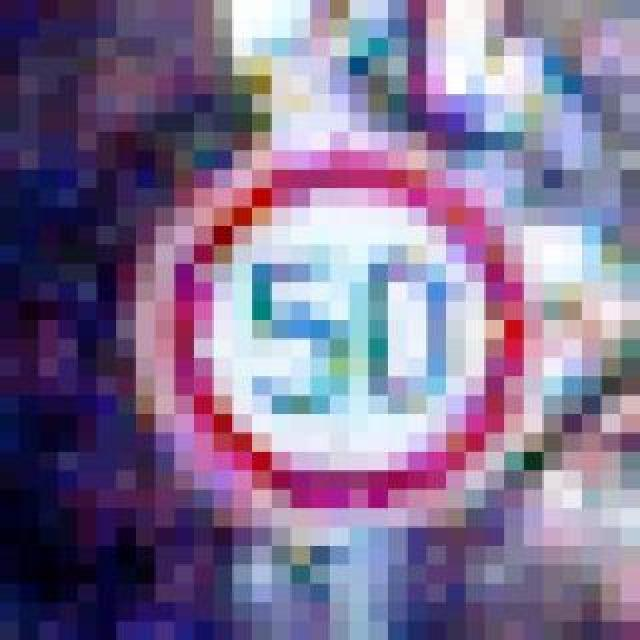50 kph: (136, 132, 524, 528)
